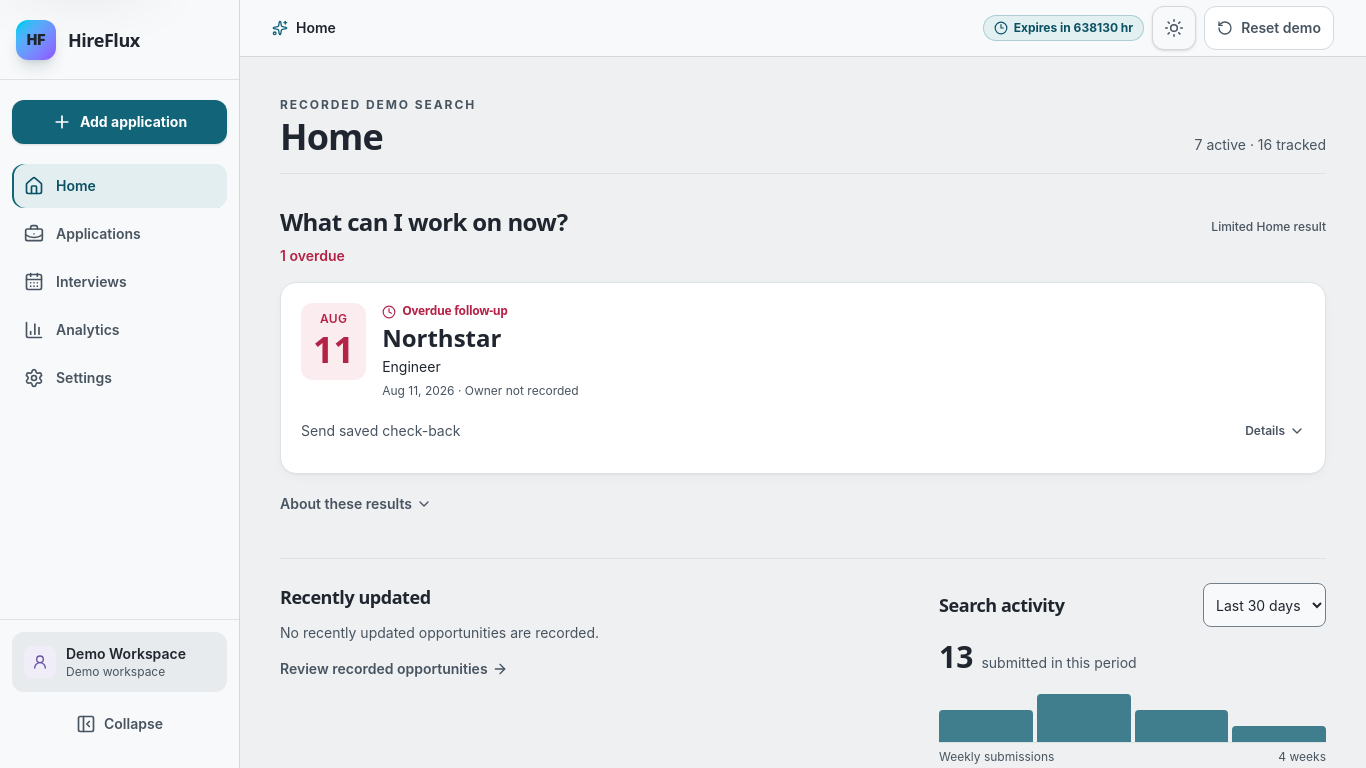
Test: Home quiet context › keeps a failed follow-up mutation connected to discoverable recorded work
Click the button "Details". click: point(1275, 431)
box: [1245, 409, 1305, 453]
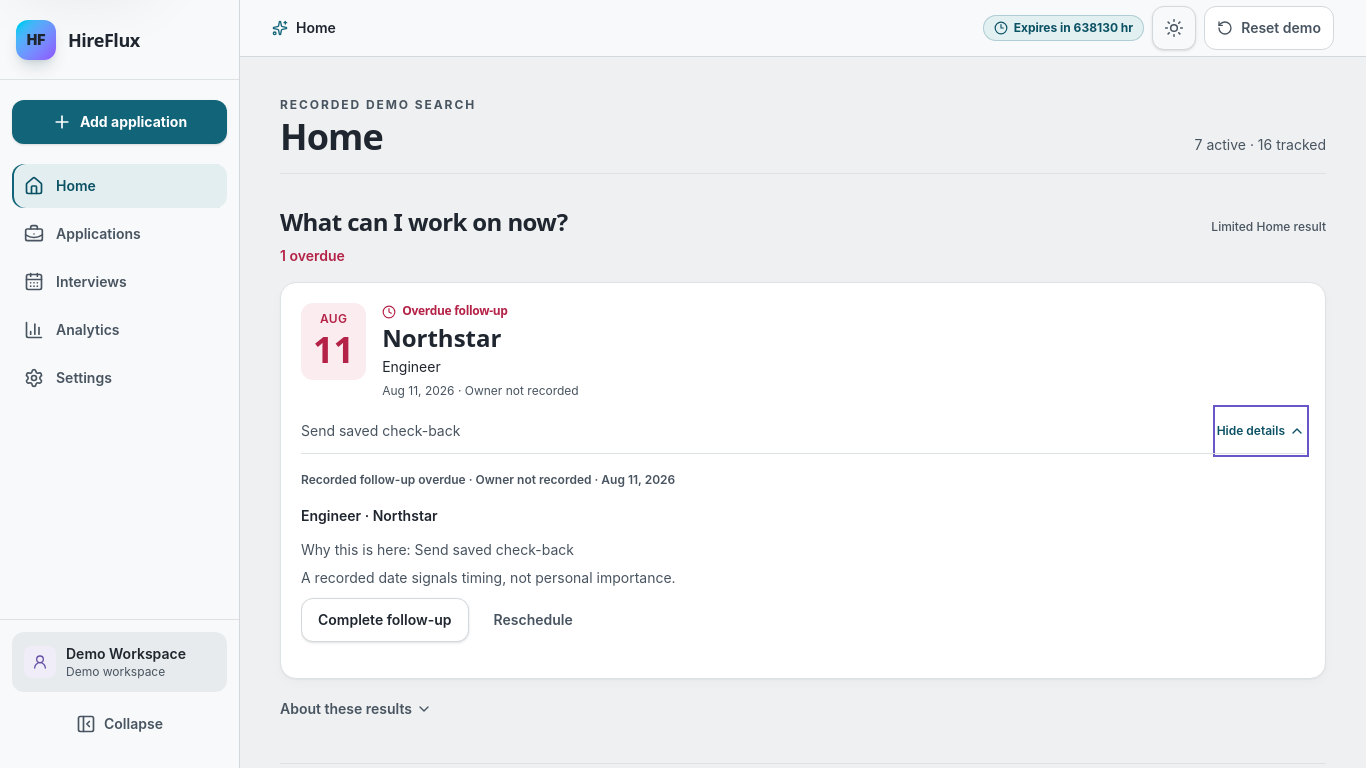
Click the button "Complete follow-up". click: point(385, 620)
box: [301, 598, 469, 642]
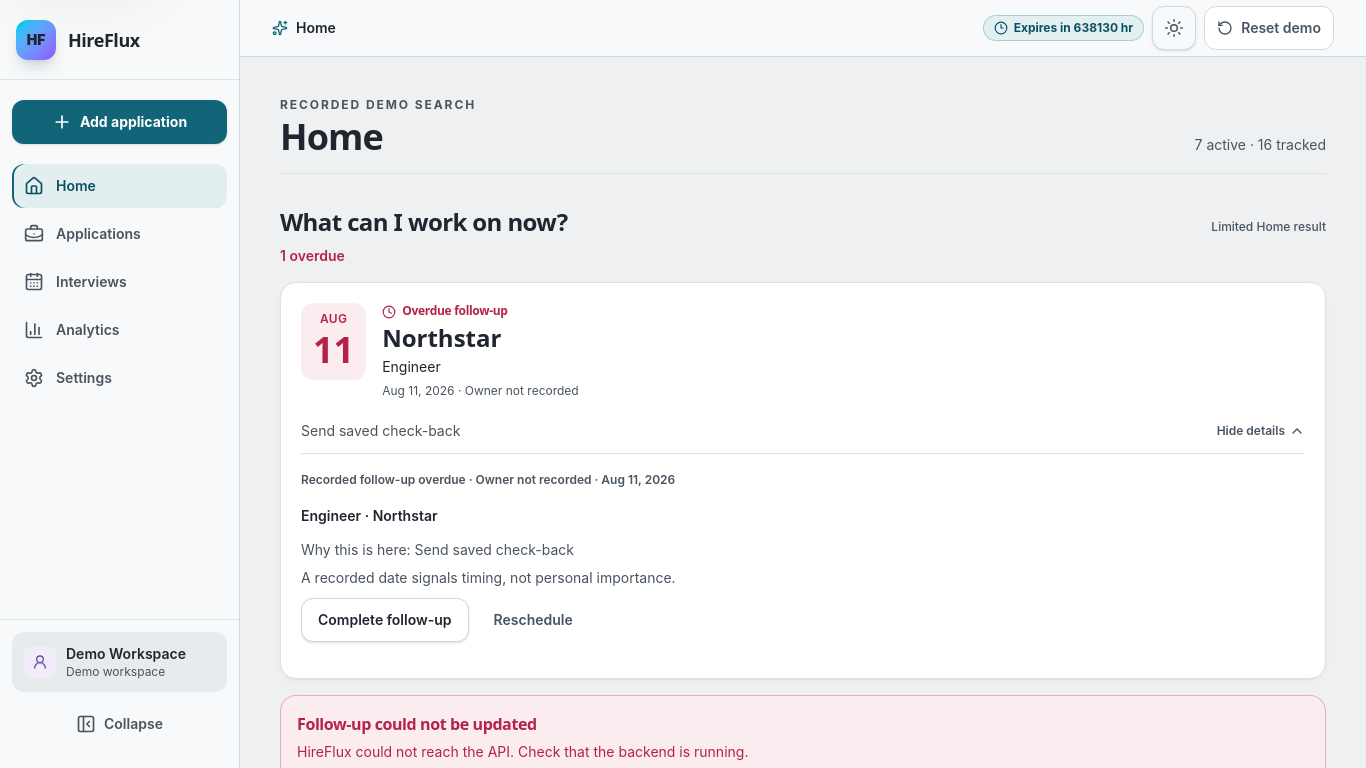
Expected: the heading "Overdue follow-up" is shown, [382, 302, 508, 319]
Expected: the button "Complete follow-up" is enabled, [301, 598, 469, 642]
Expected: the heading "Follow-up could not be updated" is shown, [297, 713, 537, 735]
